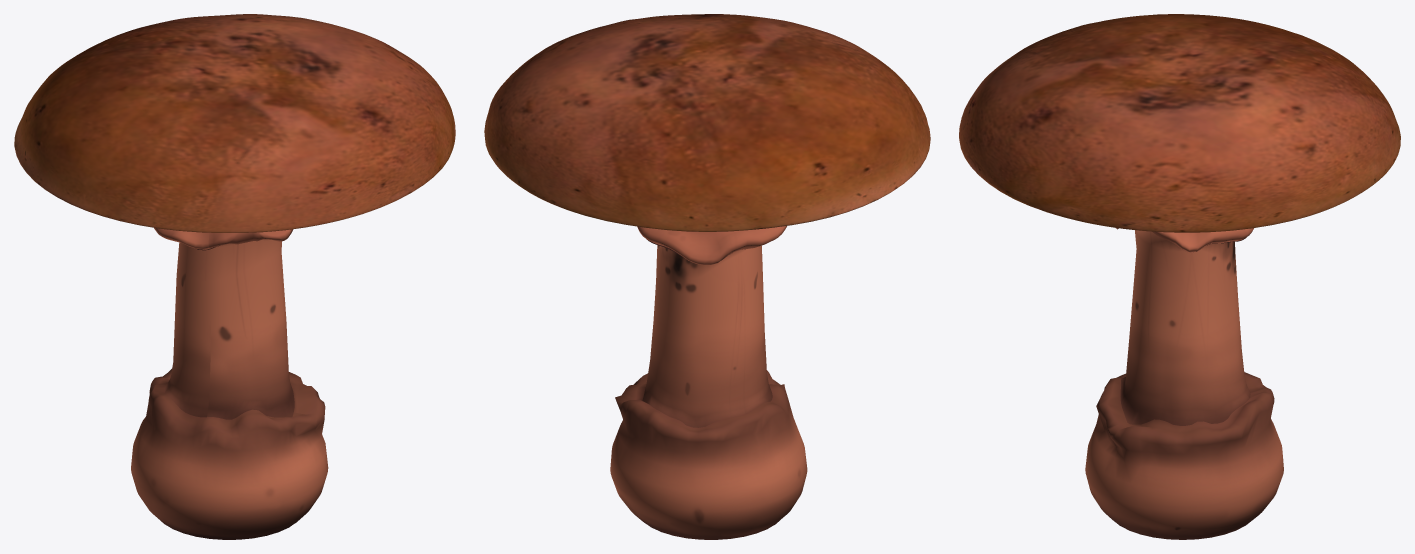
Rendered from SENE_03.fbx.
The picture shows the model from 3 angles, left to right: view 1: azimuth 30°, elevation 25°; view 2: azimuth 150°, elevation 25°; view 3: azimuth 270°, elevation 25°; orthographic projection.
Parts seen in each view (by area): view 1: SENE_03; view 2: SENE_03; view 3: SENE_03.
Boxes of the visible parts, <box> form: SENE_03: <box>14,14,455,539</box>; SENE_03: <box>484,14,930,539</box>; SENE_03: <box>959,14,1400,539</box>.
Bounding box in the file's own units: 61.82 × 68.51 × 60.8.
1 material, 1 textured.
